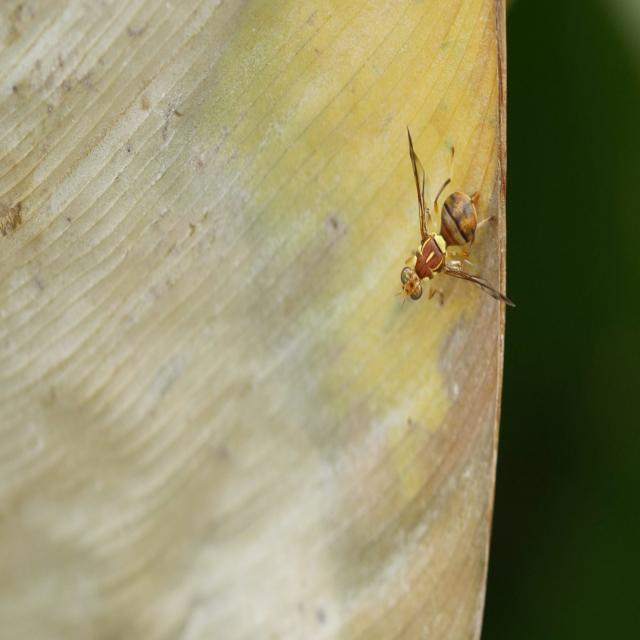Fruit fly: (388, 128, 519, 318)
